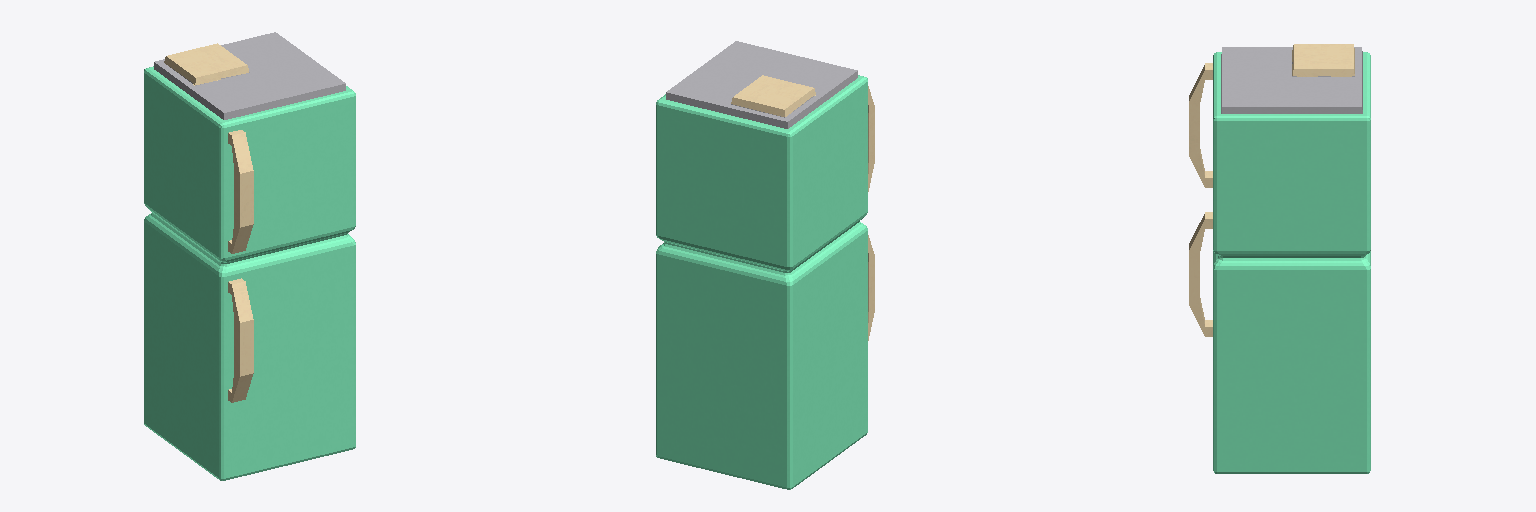
3 views of the same model, side by side, from view 1: azimuth 30°, elevation 25°; view 2: azimuth 150°, elevation 25°; view 3: azimuth 270°, elevation 25° (orthographic).
Parts seen in each view (by area): view 1: Refrigerador:Refrigerador_Cube1; view 2: Refrigerador:Refrigerador_Cube1; view 3: Refrigerador:Refrigerador_Cube1.
Boxes of the visible parts, <box> form: Refrigerador:Refrigerador_Cube1: <box>144,32,355,480</box>; Refrigerador:Refrigerador_Cube1: <box>656,41,874,489</box>; Refrigerador:Refrigerador_Cube1: <box>1189,44,1370,473</box>.
Size of the model in its own units: 3.6 by 9.36 by 4.15.
Materials: 1 (1 with a texture image).